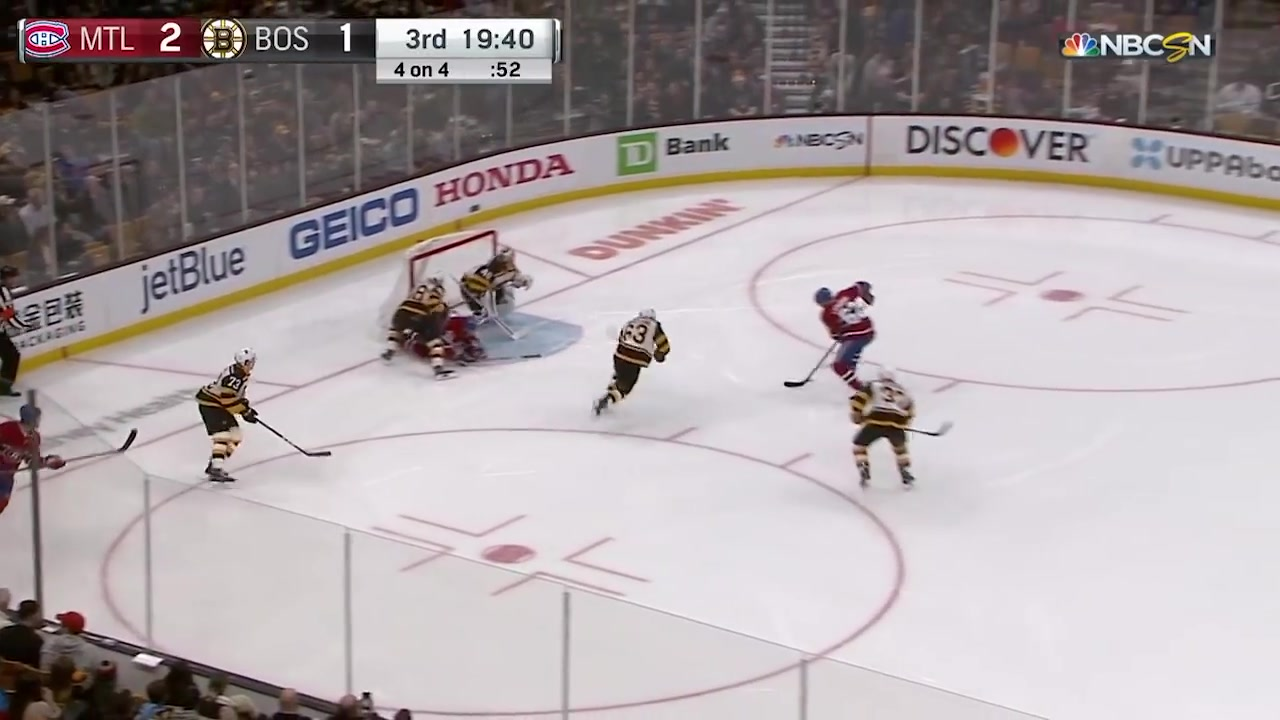geico: (276, 182, 438, 264)
